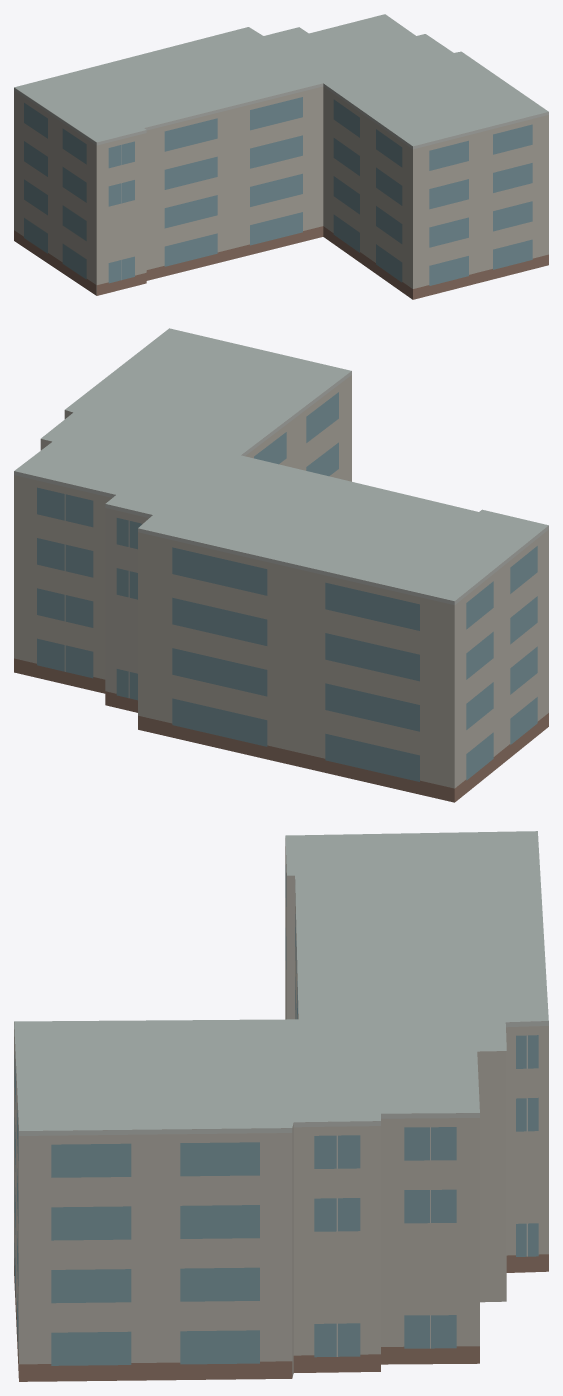
Rendered from survey-upis-32753591.glb.
3 renders of one model, top to bottom at view 1: azimuth 30°, elevation 25°; view 2: azimuth 150°, elevation 25°; view 3: azimuth 270°, elevation 25°, orthographic. The views are drawn at different scales.
Visible parts, largest first — view 1: survey-upis-32753591.tmp; view 2: survey-upis-32753591.tmp; view 3: survey-upis-32753591.tmp.
Part boxes in pixels (x1,y1,x2,y2): survey-upis-32753591.tmp: (14,14,548,299); survey-upis-32753591.tmp: (14,328,548,802); survey-upis-32753591.tmp: (14,831,548,1381).
Size of the model in its own units: 31.57 by 12.3 by 23.78.
